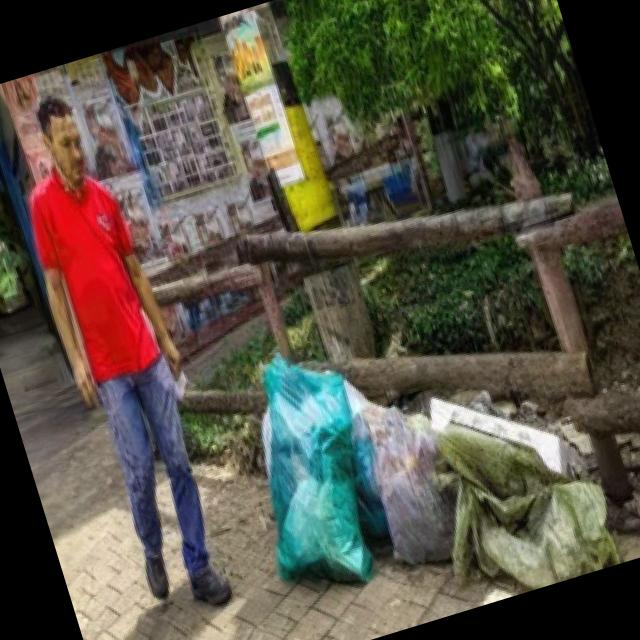high trash: (262, 356, 619, 590)
